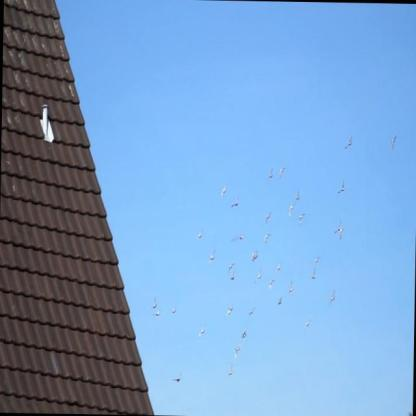bird: (197, 322, 207, 339), (345, 133, 354, 151), (250, 248, 259, 266), (171, 370, 183, 383), (390, 133, 398, 152), (230, 195, 240, 210), (337, 178, 345, 196), (274, 258, 283, 274), (329, 287, 336, 307), (208, 248, 216, 265), (278, 165, 287, 180), (226, 303, 235, 318), (297, 211, 305, 226), (265, 211, 273, 226), (226, 362, 234, 377), (305, 317, 312, 334), (334, 219, 341, 235), (196, 226, 203, 242), (226, 260, 234, 274), (240, 327, 247, 342), (248, 306, 256, 319), (289, 202, 295, 219), (267, 166, 274, 180), (310, 267, 317, 281), (288, 279, 294, 295), (234, 343, 240, 359), (295, 190, 302, 203), (268, 277, 275, 290), (220, 183, 226, 198), (256, 266, 262, 281), (339, 227, 345, 240), (265, 232, 271, 245), (152, 297, 158, 310), (313, 255, 320, 266), (277, 296, 284, 307), (229, 269, 235, 281), (152, 310, 161, 318), (238, 232, 244, 242), (170, 306, 177, 314)
